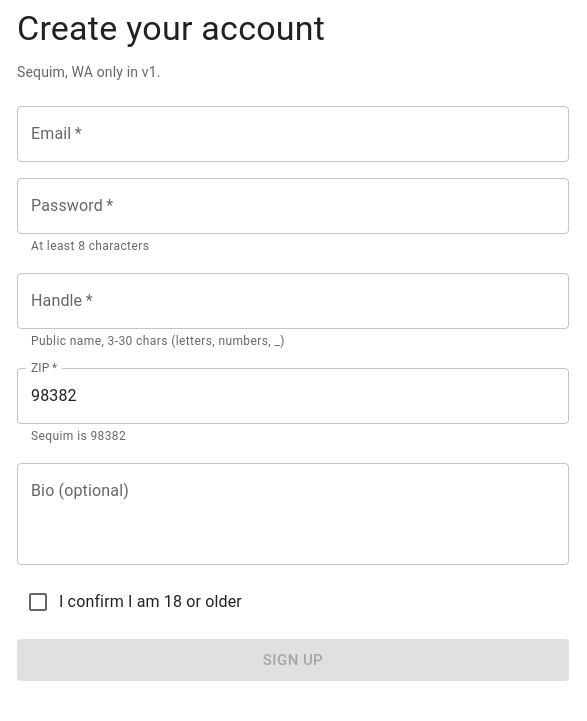
SignupPage › on 409 EMAIL_IN_USE, shows inline email-in-use error
Type "taken@example.com" into the field labelled "Email *".
click(293, 134); type("taken@example.com")  # box 17,106 -> 569,162
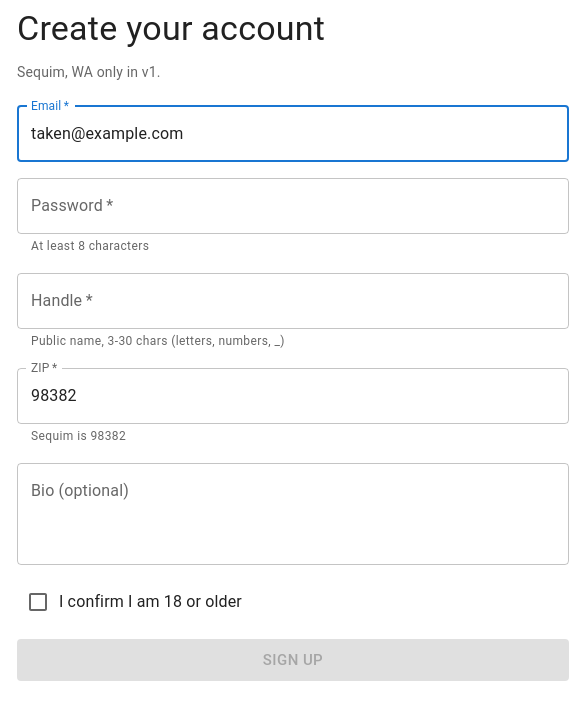
Type "correct-horse" into the password field labelled "Password *".
click(293, 206); type("correct-horse")  # box 17,178 -> 569,234
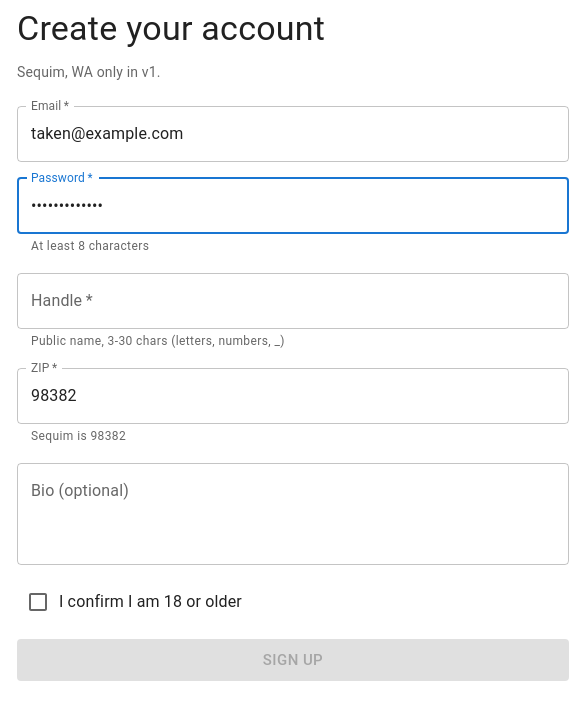
Type "newalice" into the field labelled "Handle *".
click(293, 301); type("newalice")  # box 17,273 -> 569,329
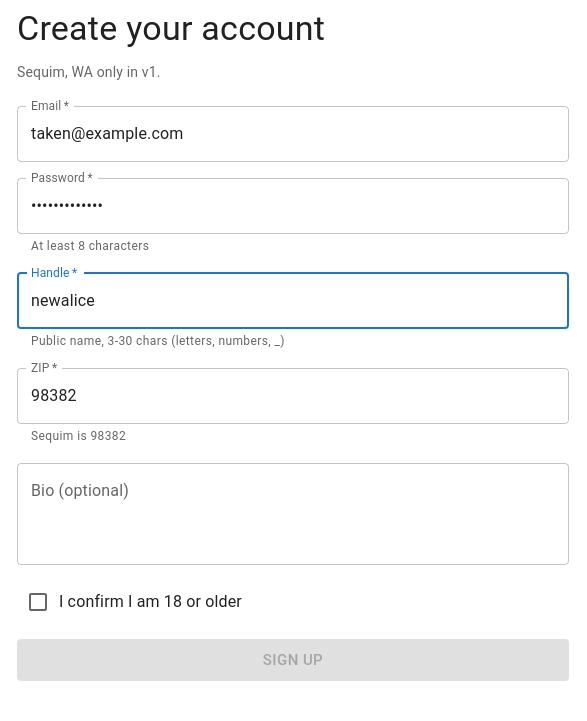
Click the checkbox labelled "I confirm I am 18 or older".
click(134, 602)  # box 26,590 -> 242,614
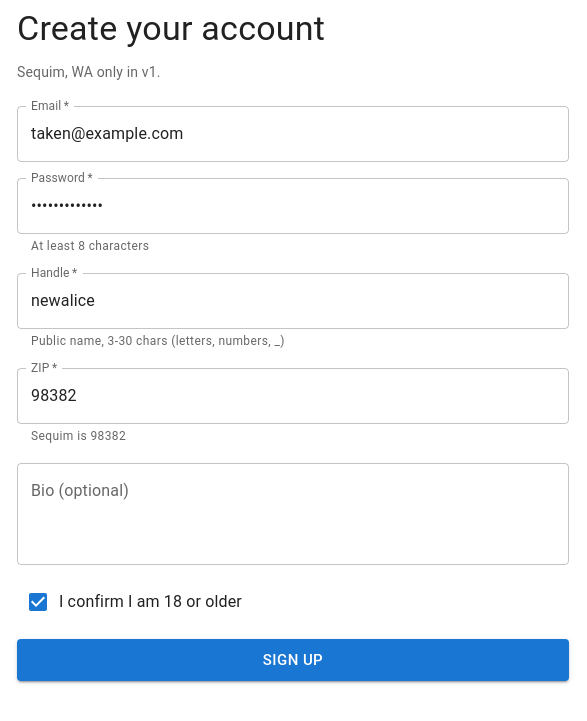
Click the button "Sign up".
click(293, 660)  # box 17,639 -> 569,681
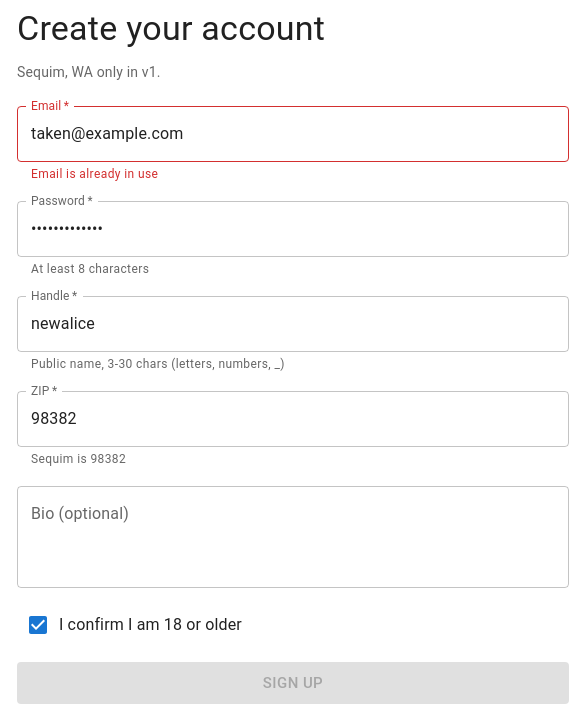
Now the text "Email is already in use" is shown, box 31,167 -> 158,181
